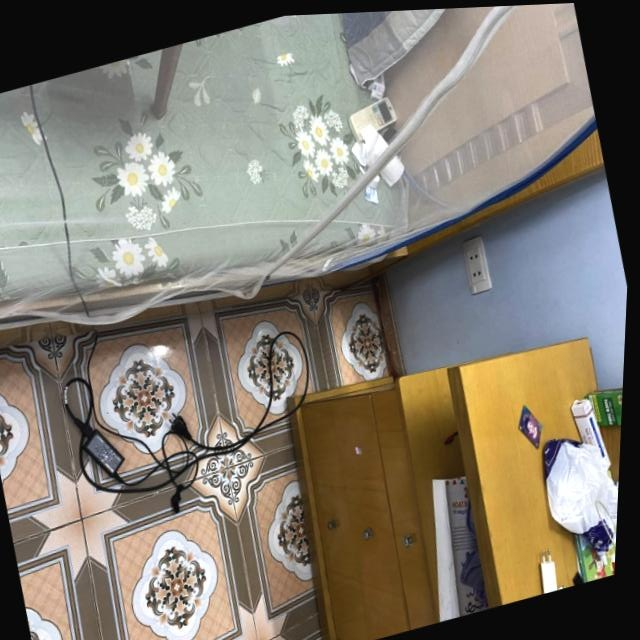outlet: (459, 233, 496, 295)
